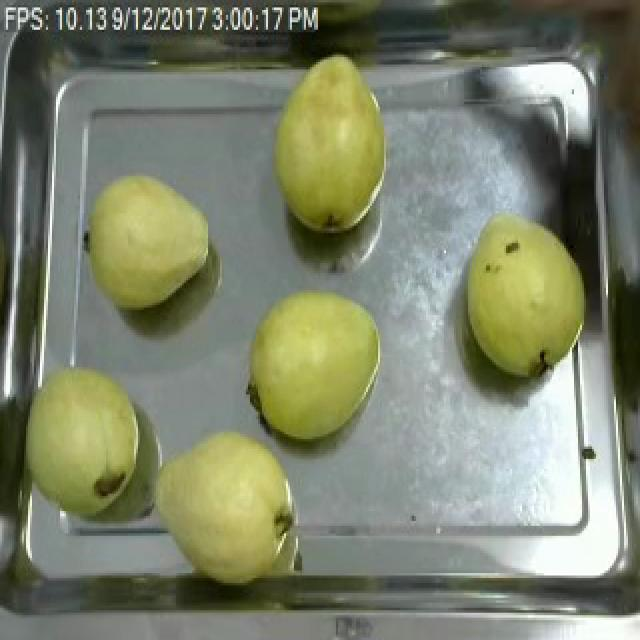Fruit: (150, 417, 306, 593), (4, 352, 152, 528), (264, 47, 396, 241), (456, 203, 596, 384), (240, 276, 388, 447), (76, 164, 216, 320)
